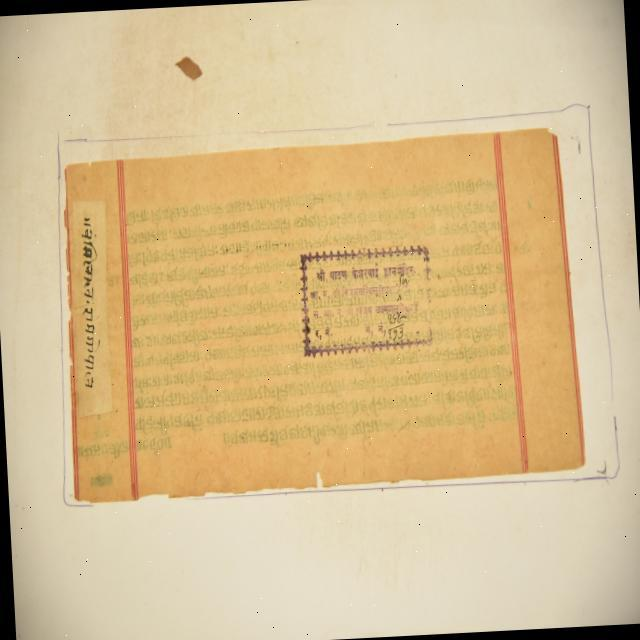text_paragraph: (62, 128, 584, 498)
